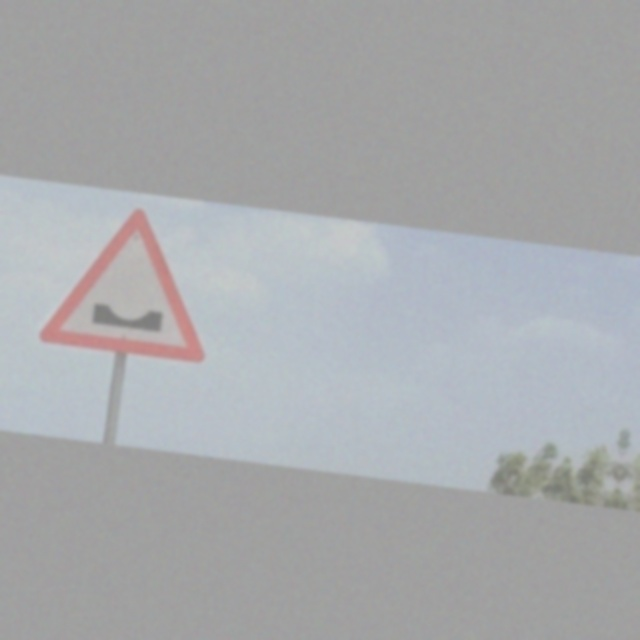Dangerous_Dip: (43, 200, 223, 364)
